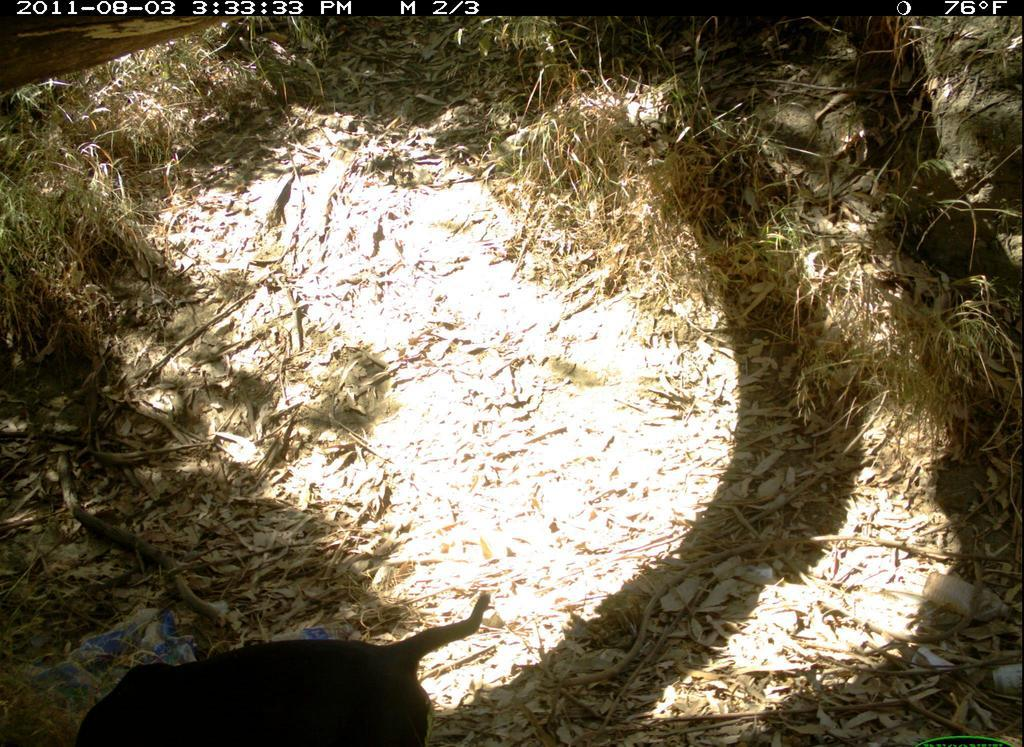dog: (57, 583, 507, 747)
